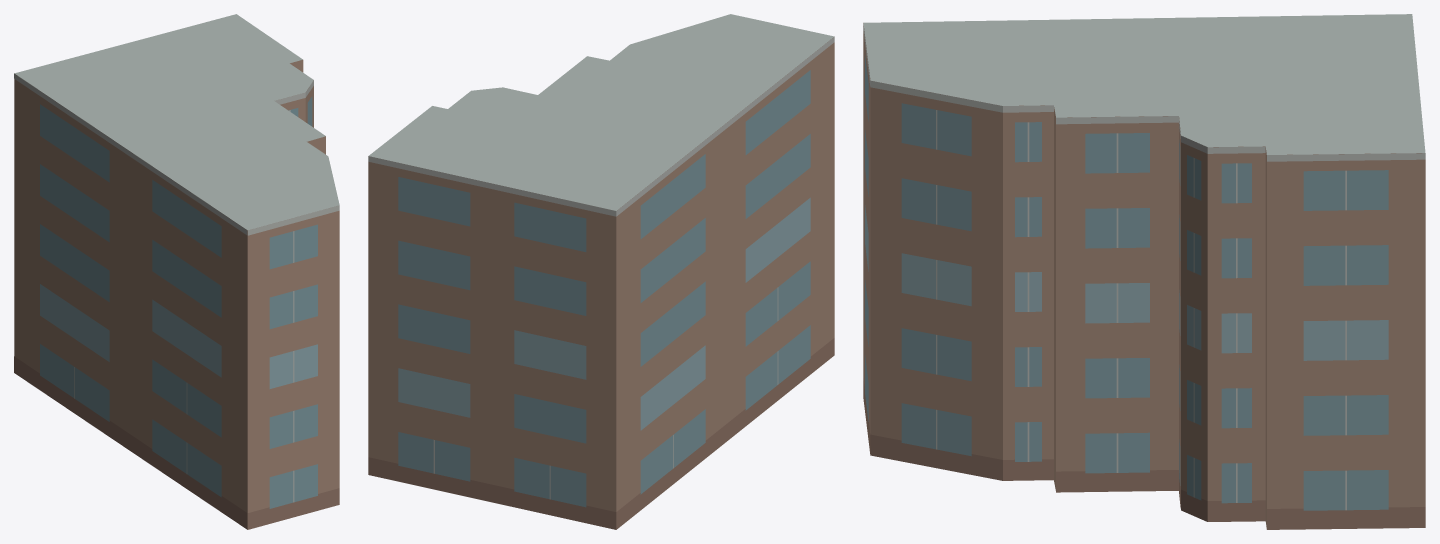
The model's file is survey-upis-32689991.glb.
3 renders of one model, left to right at view 1: azimuth 30°, elevation 25°; view 2: azimuth 150°, elevation 25°; view 3: azimuth 270°, elevation 25°, orthographic. The views are drawn at different scales.
Visible parts, largest first — view 1: survey-upis-32689991.tmp; view 2: survey-upis-32689991.tmp; view 3: survey-upis-32689991.tmp.
Part boxes in pixels (x1,y1,x2,y2): survey-upis-32689991.tmp: [14, 14, 339, 529]; survey-upis-32689991.tmp: [368, 14, 834, 529]; survey-upis-32689991.tmp: [863, 14, 1425, 529].
Size of the model in its own units: 11.02 by 13.65 by 18.56.
